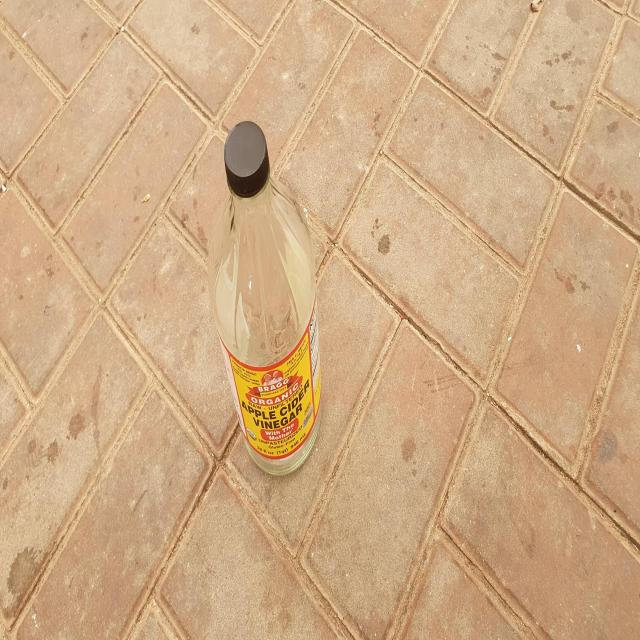glass: (208, 120, 321, 475)
